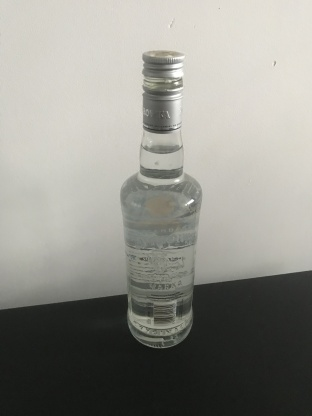nakretka: (141, 48, 185, 134)
